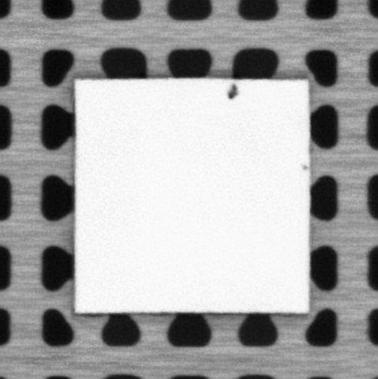DIE_INK: (224, 83, 239, 100), (298, 161, 308, 170)
